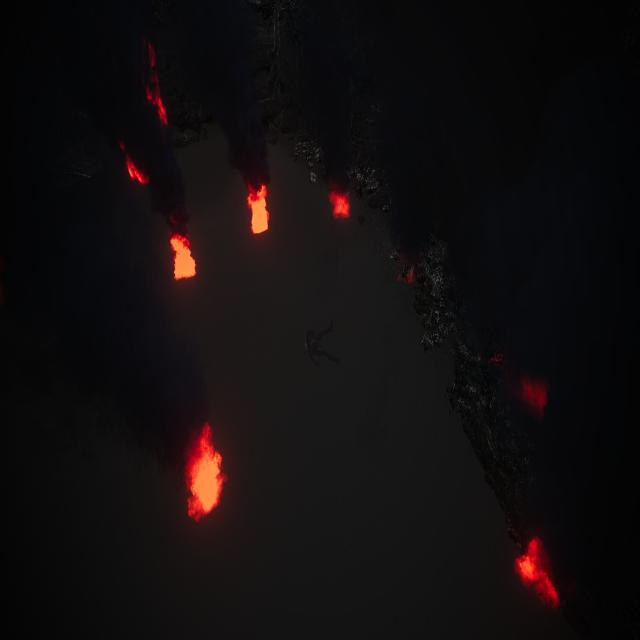Human: (290, 306, 352, 375)
